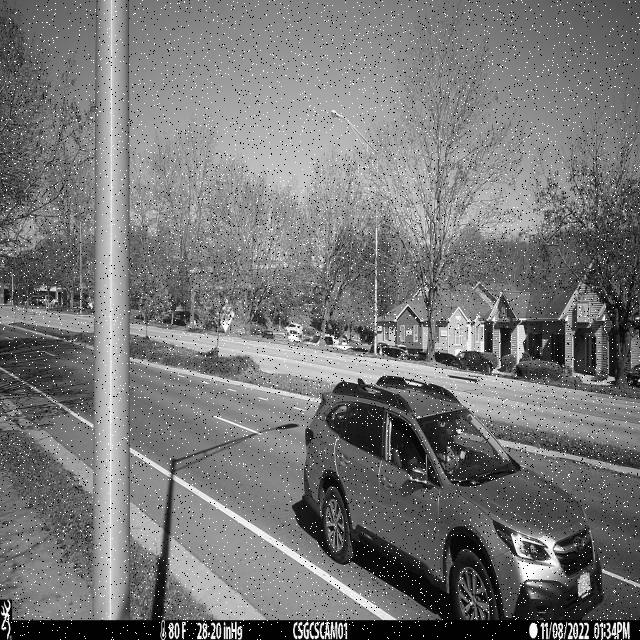SUV: (303, 376, 605, 621)
